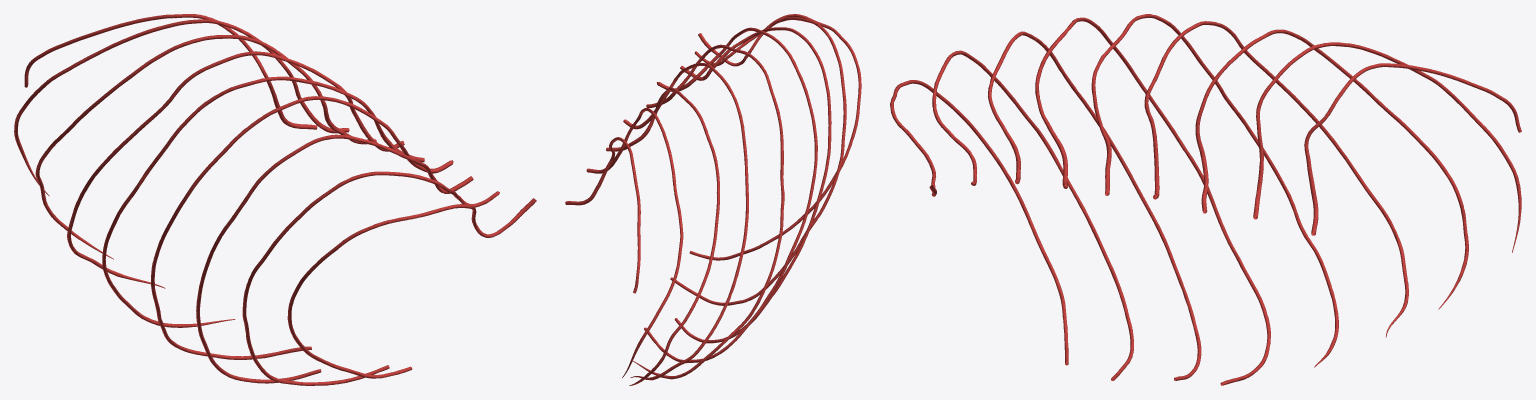
The picture shows the model from 3 angles, left to right: view 1: azimuth 30°, elevation 25°; view 2: azimuth 150°, elevation 25°; view 3: azimuth 270°, elevation 25°; orthographic projection. The views are drawn at different scales.
Parts seen in each view (by area): view 1: 右侧肋间后动脉; view 2: 右侧肋间后动脉; view 3: 右侧肋间后动脉.
Part boxes in pixels (x1=…): 右侧肋间后动脉: x1=14, y1=14, x2=536, y2=385; 右侧肋间后动脉: x1=565, y1=14, x2=861, y2=385; 右侧肋间后动脉: x1=890, y1=14, x2=1521, y2=385.
Size of the model in its own units: 0.2356 by 0.2892 by 0.4915.
